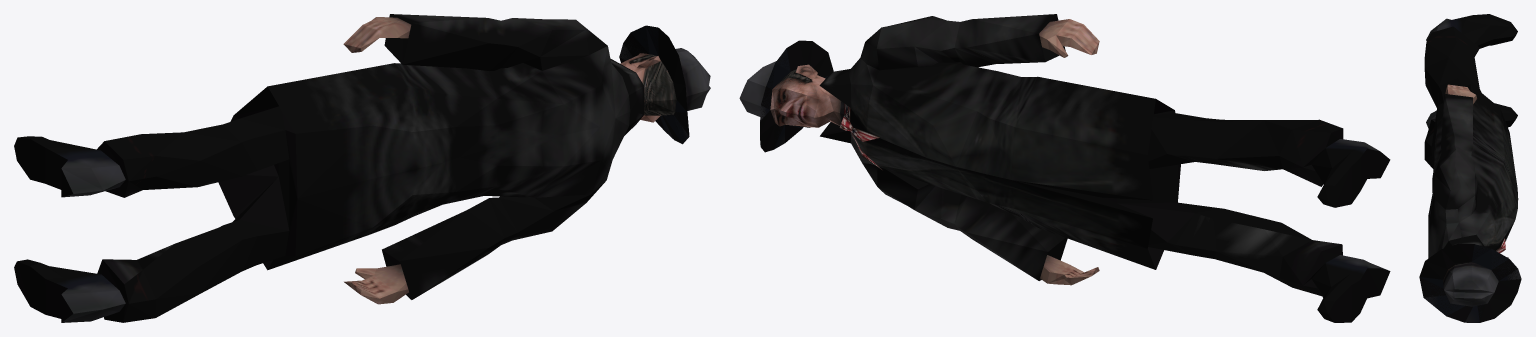
The model's file is dwmolc2.obj.
3 renders of one model, left to right at view 1: azimuth 30°, elevation 25°; view 2: azimuth 150°, elevation 25°; view 3: azimuth 270°, elevation 25°, orthographic. The views are drawn at different scales.
Parts seen in each view (by area): view 1: Root; view 2: Root; view 3: Root.
Part boxes in pixels (x1=…): Root: x1=14, y1=14, x2=710, y2=322; Root: x1=739, y1=14, x2=1390, y2=322; Root: x1=1419, y1=14, x2=1521, y2=322.
Bounding box in the file's own units: 1.72 × 0.6929 × 0.3341.
Materials: 1 (1 with a texture image).
